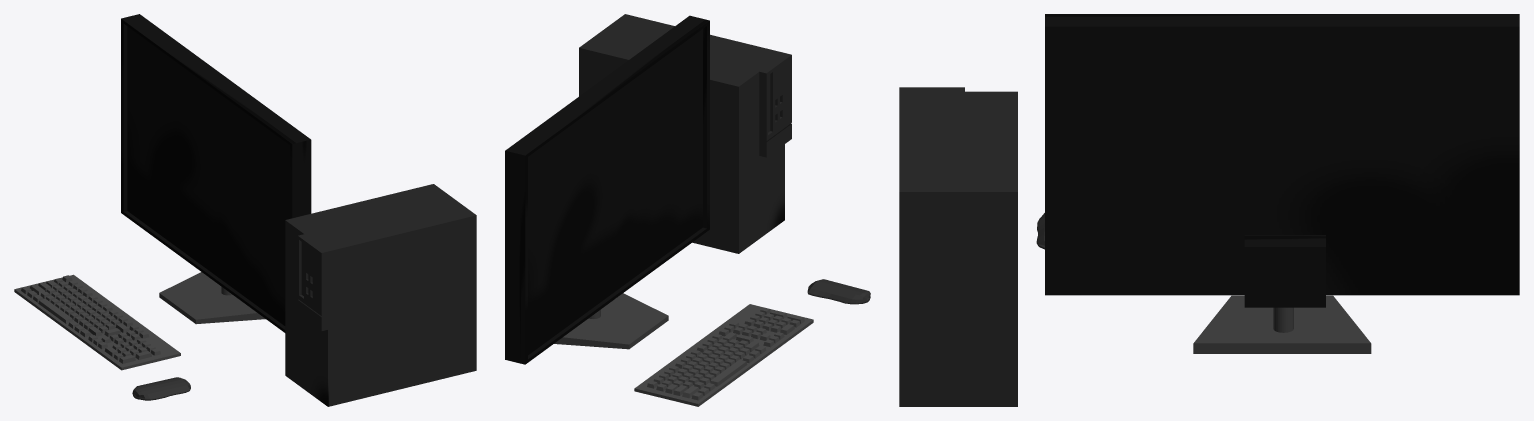
File: Computer.glb
3 views of the same model, side by side, from view 1: azimuth 30°, elevation 25°; view 2: azimuth 150°, elevation 25°; view 3: azimuth 270°, elevation 25° (orthographic). The views are drawn at different scales.
Visible parts, largest first — view 1: Cube.001, Cube, Plane.096, Cylinder; view 2: Cube.001, Cube, Plane.096, Cylinder; view 3: Cube.001, Cube.
Part boxes in pixels (<box>): Cube.001: <box>121,14,311,332</box>; Cube: <box>285,184,476,406</box>; Plane.096: <box>14,274,180,370</box>; Cylinder: <box>132,377,190,400</box>; Cube.001: <box>505,15,709,364</box>; Cube: <box>579,14,791,253</box>; Plane.096: <box>634,304,813,406</box>; Cylinder: <box>807,279,870,304</box>; Cube.001: <box>1045,14,1519,353</box>; Cube: <box>899,87,1017,406</box>.
Size of the model in its own units: 7.66 by 5.76 by 10.46.
Materials: 5 (4 with a texture image).
